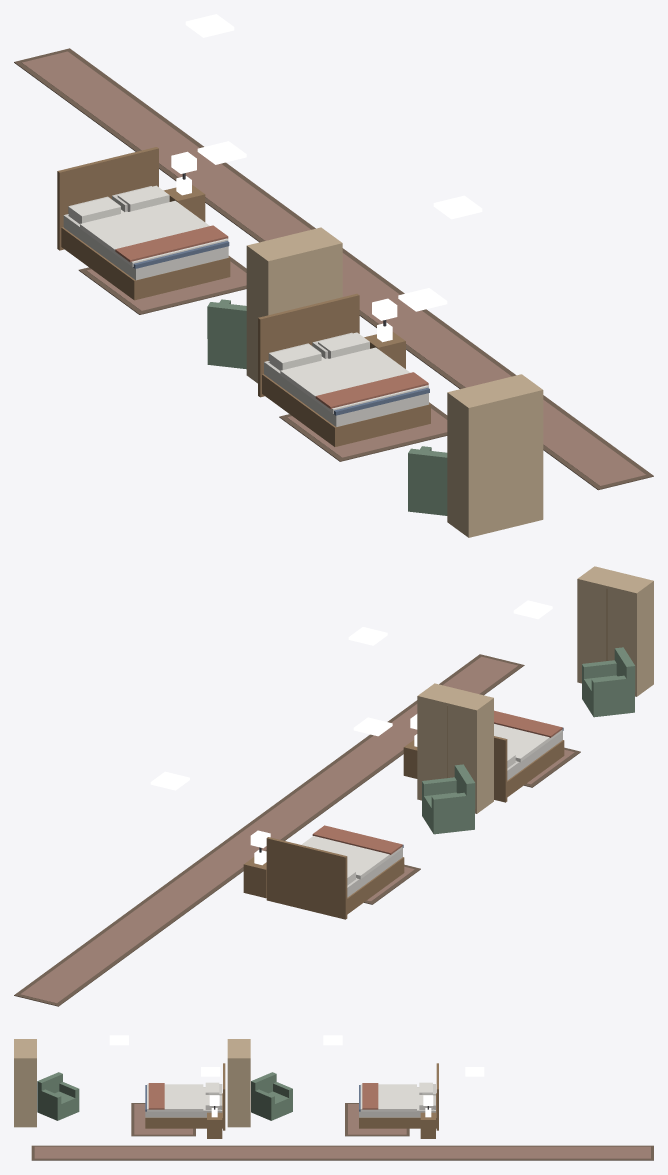
File: fine-s2.glb
The picture shows the model from 3 angles, top to bottom: view 1: azimuth 30°, elevation 25°; view 2: azimuth 150°, elevation 25°; view 3: azimuth 270°, elevation 25°; orthographic projection. The views are drawn at different scales.
Visible parts, largest first — view 1: soft-s2, dresser.003, bed-frame.002, bed-frame.003, dresser.002, lounge-chair.003, lounge-chair.002, nightstand.002, nightstand.003, ceiling-lamp.009, ceiling-lamp.008, ceiling-lamp.010; view 2: soft-s2, dresser.003, dresser.002, bed-frame.002, lounge-chair.002, lounge-chair.003, bed-frame.003, nightstand.002; view 3: soft-s2, dresser.002, dresser.003, lounge-chair.003, lounge-chair.002, bed-frame.003, bed-frame.002, nightstand.002, nightstand.003, ceiling-lamp.009, ceiling-lamp.010.
Boxes of the visible parts, x1,y1,x2,y2 form: soft-s2: (14, 48, 653, 490); dresser.003: (447, 374, 543, 537); bed-frame.002: (57, 147, 230, 300); bed-frame.003: (258, 293, 430, 446); dresser.002: (246, 227, 342, 383); lounge-chair.003: (408, 446, 447, 515); lounge-chair.002: (207, 299, 246, 369); nightstand.002: (163, 176, 205, 221); nightstand.003: (364, 322, 405, 368); ceiling-lamp.009: (197, 141, 246, 164); ceiling-lamp.008: (433, 195, 482, 219); ceiling-lamp.010: (398, 288, 447, 311); soft-s2: (14, 654, 580, 1006); dresser.003: (577, 566, 653, 696); dresser.002: (417, 683, 493, 813); bed-frame.002: (266, 837, 404, 919); lounge-chair.002: (422, 764, 475, 834); lounge-chair.003: (582, 647, 635, 717); bed-frame.003: (494, 727, 564, 802); nightstand.002: (243, 850, 266, 898); soft-s2: (31, 1082, 653, 1160); dresser.002: (227, 1039, 250, 1127); dresser.003: (14, 1039, 36, 1127); lounge-chair.003: (37, 1072, 79, 1120); lounge-chair.002: (251, 1072, 292, 1120); bed-frame.003: (145, 1063, 225, 1130); bed-frame.002: (359, 1063, 438, 1130); nightstand.002: (420, 1108, 435, 1138); nightstand.003: (207, 1108, 222, 1138); ceiling-lamp.009: (323, 1035, 342, 1045); ceiling-lamp.010: (109, 1035, 128, 1045).
Bounding box in the file's own units: 3.55 × 2.39 × 16.76.
